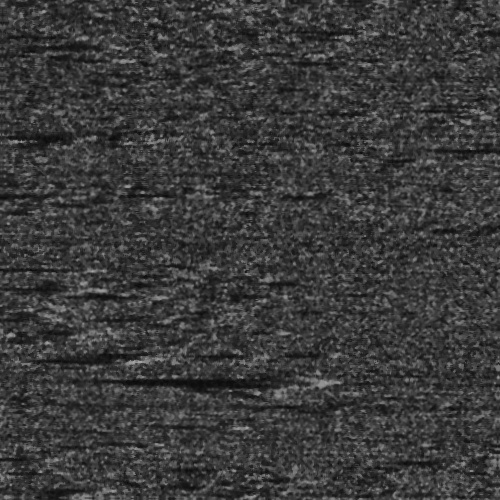object: (268, 374, 331, 385), (110, 352, 163, 363), (35, 285, 118, 292), (0, 331, 32, 338), (61, 266, 92, 269), (93, 134, 104, 139)
shadow: (146, 374, 299, 385), (35, 352, 136, 363), (7, 285, 76, 292), (442, 143, 500, 148), (0, 266, 76, 269), (64, 134, 99, 139), (0, 331, 11, 338)
